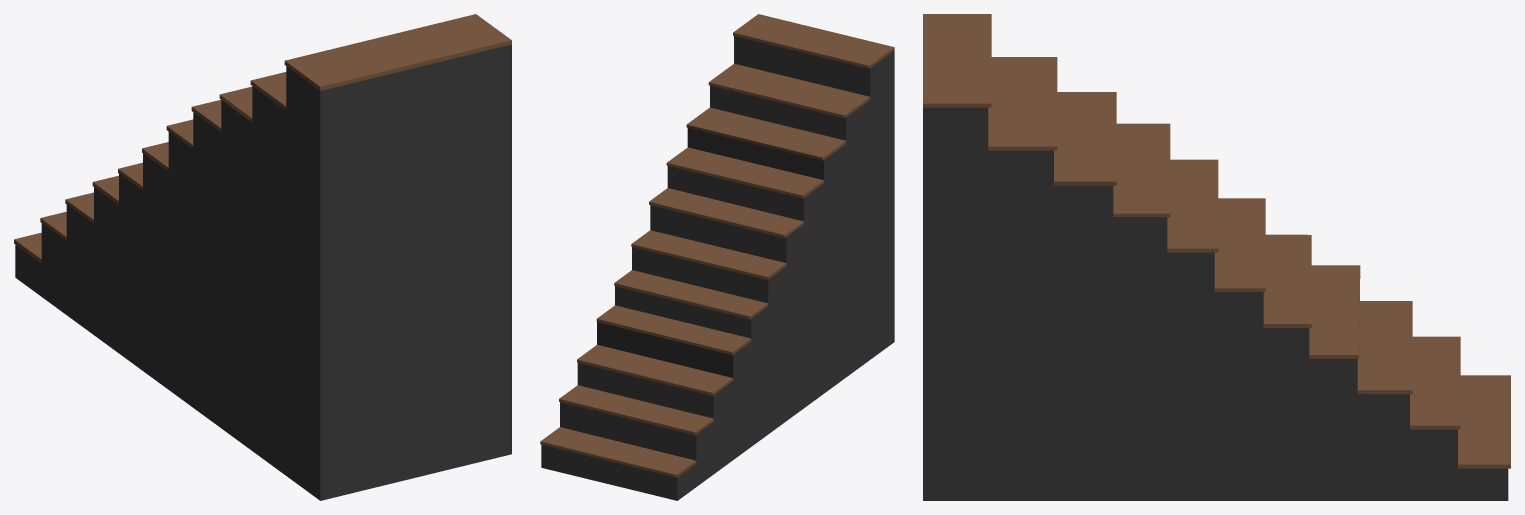
File: Rect_Stairs.FBX
3 views of the same model, side by side, from view 1: azimuth 30°, elevation 25°; view 2: azimuth 150°, elevation 25°; view 3: azimuth 270°, elevation 25° (orthographic). The views are drawn at different scales.
Parts seen in each view (by area): view 1: Object009; view 2: Object009; view 3: Object009.
Boxes of the visible parts, bbox=[...] form: Object009: bbox=[14, 14, 511, 500]; Object009: bbox=[540, 14, 894, 500]; Object009: bbox=[923, 14, 1510, 500].
Bounding box in the file's own units: 0.9673 × 2.68 × 2.
